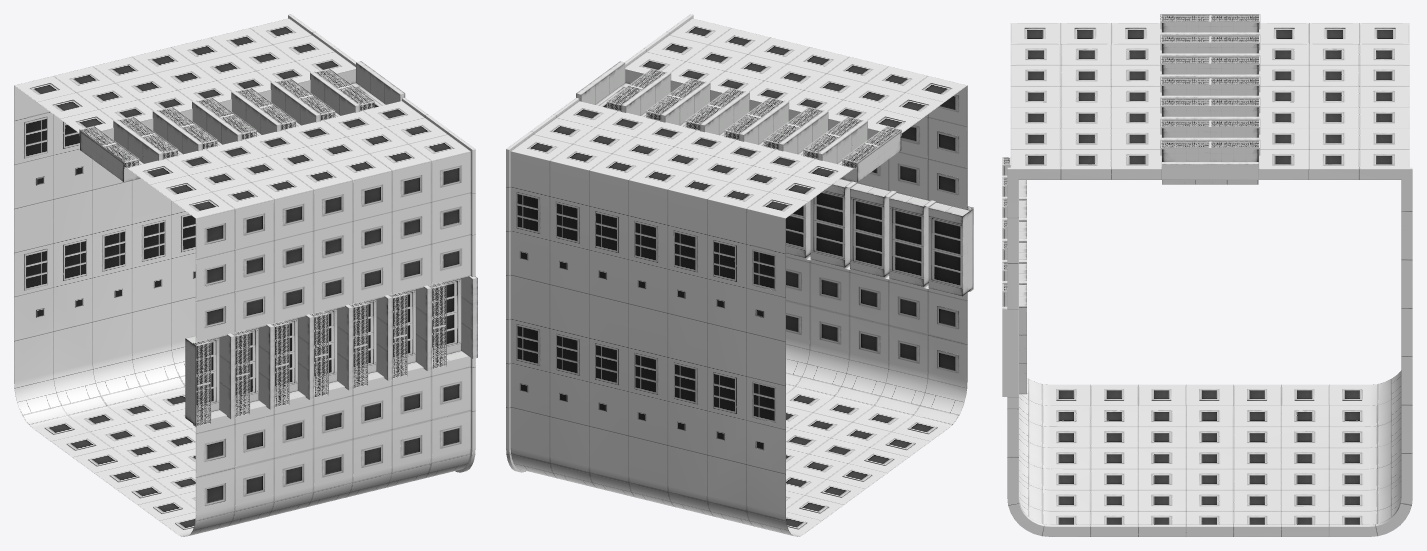
3 views of the same model, side by side, from view 1: azimuth 30°, elevation 25°; view 2: azimuth 150°, elevation 25°; view 3: azimuth 270°, elevation 25° (orthographic). The views are drawn at different scales.
Visible parts, largest first — view 1: S_R_06_01_F.002, S_R_06_01_F.003, S_R_06_01_F.001, S_R_06_01_F.004; view 2: S_R_06_01_F.002, S_R_06_01_F.003, S_R_06_01_F.004, S_R_06_01_F.001; view 3: S_R_06_01_F.002, S_R_06_01_F.003, S_R_06_01_F.004, S_R_06_01_F.001.
Part boxes in pixels (x1,y1,x2,y2): S_R_06_01_F.002: (14,14,475,536); S_R_06_01_F.003: (24,61,477,529); S_R_06_01_F.001: (81,69,445,426); S_R_06_01_F.004: (14,347,470,536); S_R_06_01_F.002: (506,14,970,536); S_R_06_01_F.003: (576,61,973,529); S_R_06_01_F.004: (511,344,966,536); S_R_06_01_F.001: (607,69,972,291); S_R_06_01_F.002: (1002,23,1412,536); S_R_06_01_F.003: (1002,14,1395,400); S_R_06_01_F.004: (1019,370,1401,523); S_R_06_01_F.001: (1003,14,1258,290).
Size of the model in its own units: 27.46 by 31.6 by 31.61.
